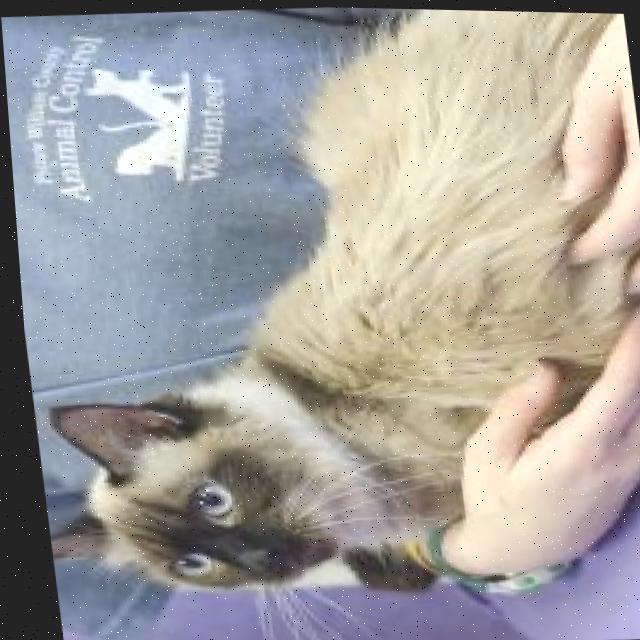Birman: (0, 0, 640, 622)
